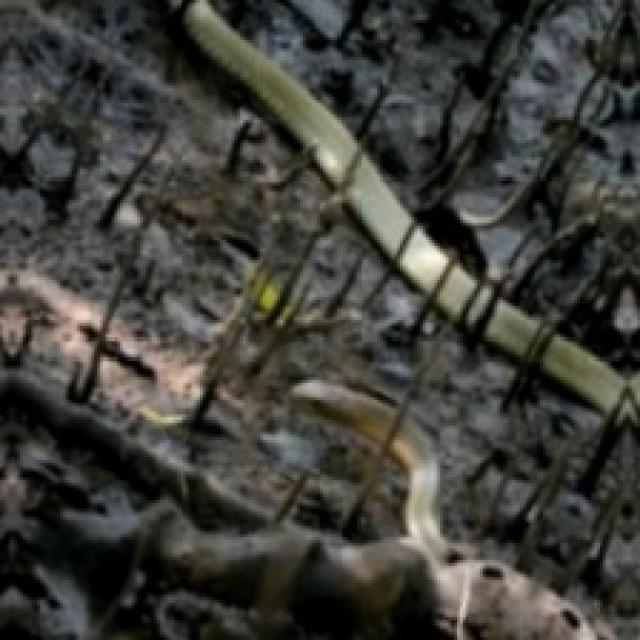king cobra: (185, 0, 639, 414), (389, 418, 450, 564), (291, 379, 399, 443)
